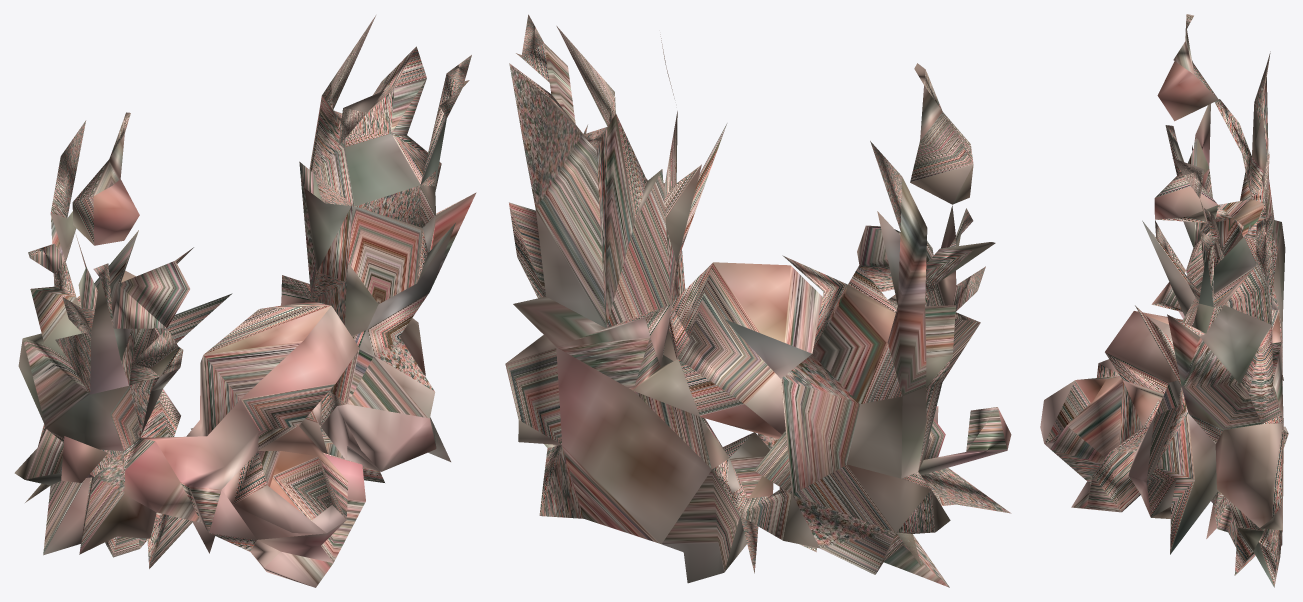
3 views of the same model, side by side, from view 1: azimuth 30°, elevation 25°; view 2: azimuth 150°, elevation 25°; view 3: azimuth 270°, elevation 25° (orthographic). The views are drawn at different scales.
Visible parts, largest first — view 1: Rose-Spray-9-30; view 2: Rose-Spray-9-30; view 3: Rose-Spray-9-30.
Part boxes in pixels (left/top/right/bottom): Rose-Spray-9-30: left=14, top=15, right=476, bottom=587; Rose-Spray-9-30: left=505, top=14, right=1011, bottom=587; Rose-Spray-9-30: left=1040, top=14, right=1288, bottom=587.
Size of the model in its own units: 0.225 by 0.235 by 0.1156.
Materials: 1 (1 with a texture image).
